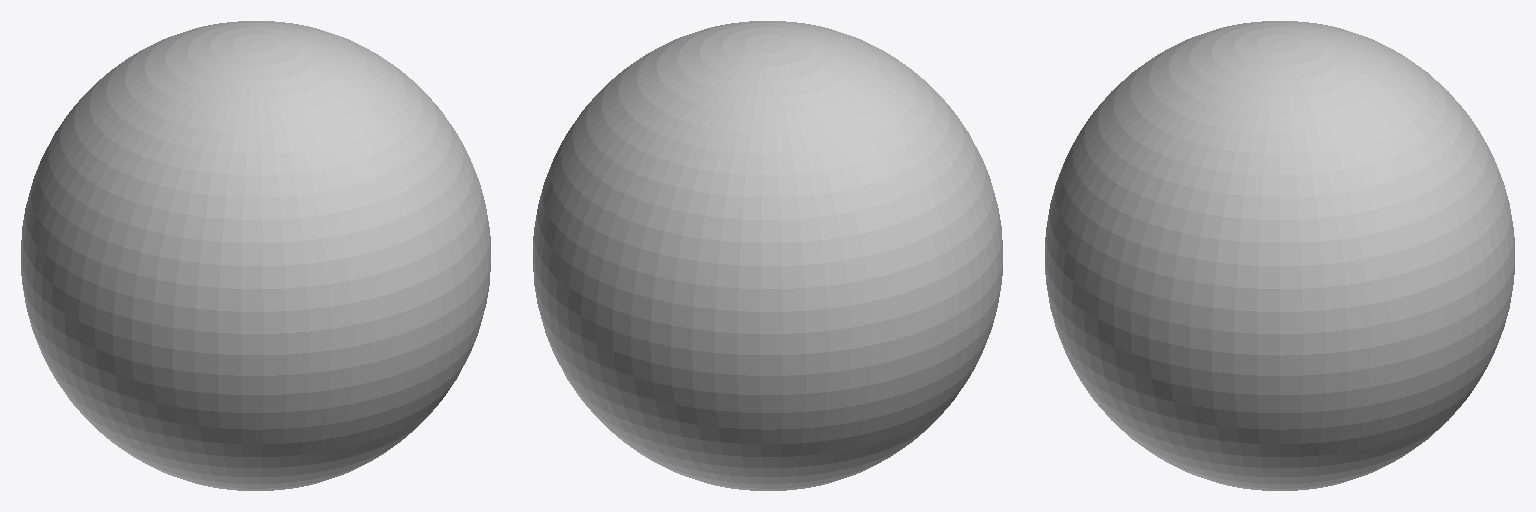
File: body.obj
The picture shows the model from 3 angles: view 1: azimuth 30°, elevation 25°; view 2: azimuth 150°, elevation 25°; view 3: azimuth 270°, elevation 25°; orthographic projection.
Parts seen in each view (by area): view 1: Sphere; view 2: Sphere; view 3: Sphere.
Part boxes in pixels (bbox=[...]): Sphere: bbox=[21, 21, 490, 490]; Sphere: bbox=[533, 21, 1002, 490]; Sphere: bbox=[1045, 21, 1514, 490].
Size of the model in its own units: 1 by 1 by 1.